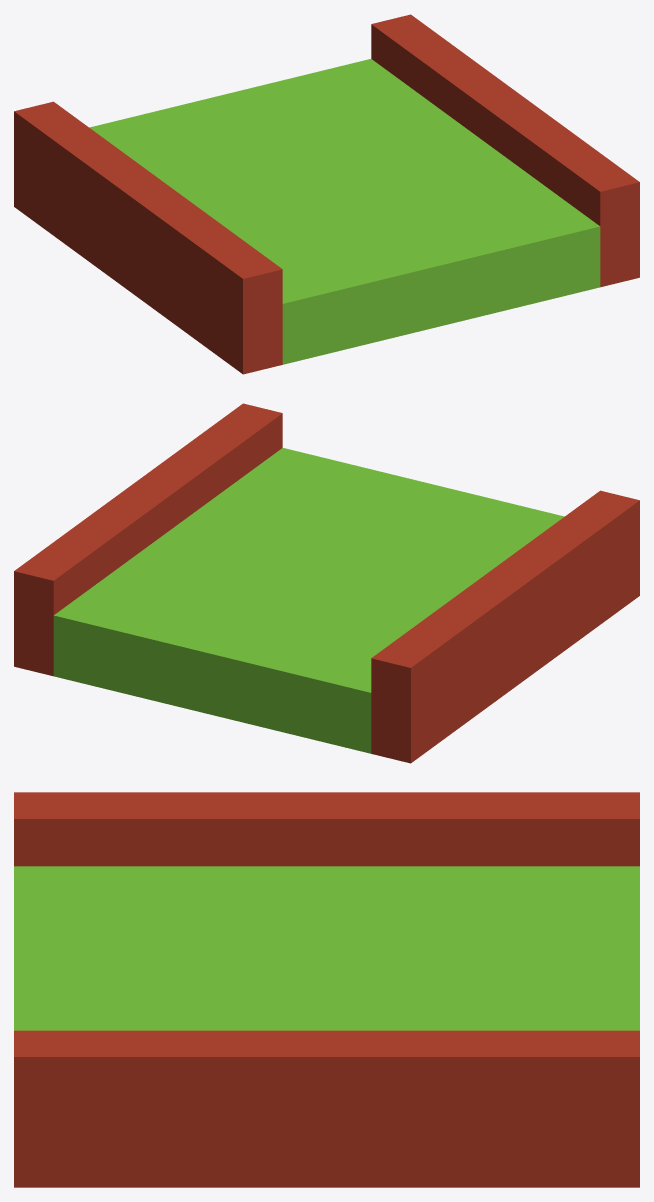
File: Straight.FBX
3 views of the same model, one above another, from view 1: azimuth 30°, elevation 25°; view 2: azimuth 150°, elevation 25°; view 3: azimuth 270°, elevation 25° (orthographic). The views are drawn at different scales.
Visible parts, largest first — view 1: Straight_01, Walls; view 2: Straight_01, Walls; view 3: Walls, Straight_01.
Boxes of the visible parts, x1=… form: Straight_01: x1=89, y1=59, x2=600, y2=364; Walls: x1=14, y1=14, x2=639, y2=374; Straight_01: x1=53, y1=448, x2=564, y2=753; Walls: x1=14, y1=403, x2=639, y2=763; Walls: x1=14, y1=792, x2=639, y2=1187; Straight_01: x1=14, y1=866, x2=639, y2=1030.
Size of the model in its own units: 2.54 by 2.54 by 0.5841.
